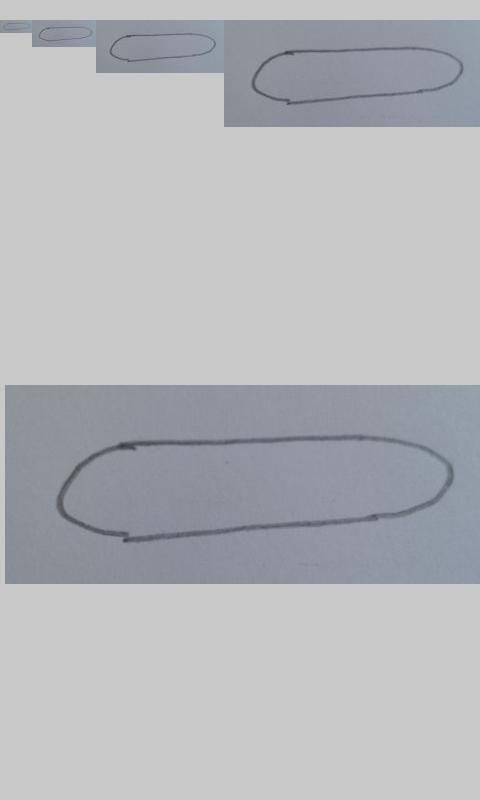chip: (56, 433, 455, 542), (250, 46, 464, 107), (110, 33, 217, 62), (38, 26, 93, 42), (3, 22, 31, 31)
